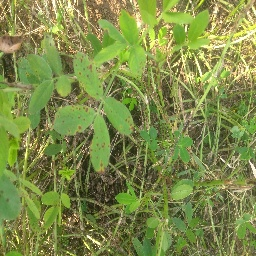GroundNut_Leaf: (73, 52, 102, 100), (54, 104, 93, 138), (94, 114, 111, 173), (1, 173, 20, 220), (20, 54, 53, 81), (112, 103, 133, 139), (28, 86, 52, 117), (118, 9, 139, 44), (190, 10, 210, 42), (169, 178, 194, 202), (129, 47, 146, 78), (140, 1, 158, 27), (116, 195, 141, 212), (1, 119, 23, 137), (164, 11, 189, 25), (44, 208, 60, 229), (8, 140, 18, 168), (42, 144, 63, 155), (42, 190, 58, 204), (147, 217, 159, 231), (180, 137, 193, 148), (179, 151, 189, 165), (183, 232, 197, 241), (149, 127, 158, 139)
